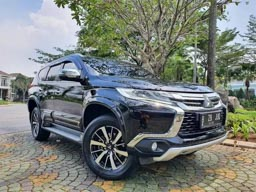plat: (201, 111, 223, 126)
